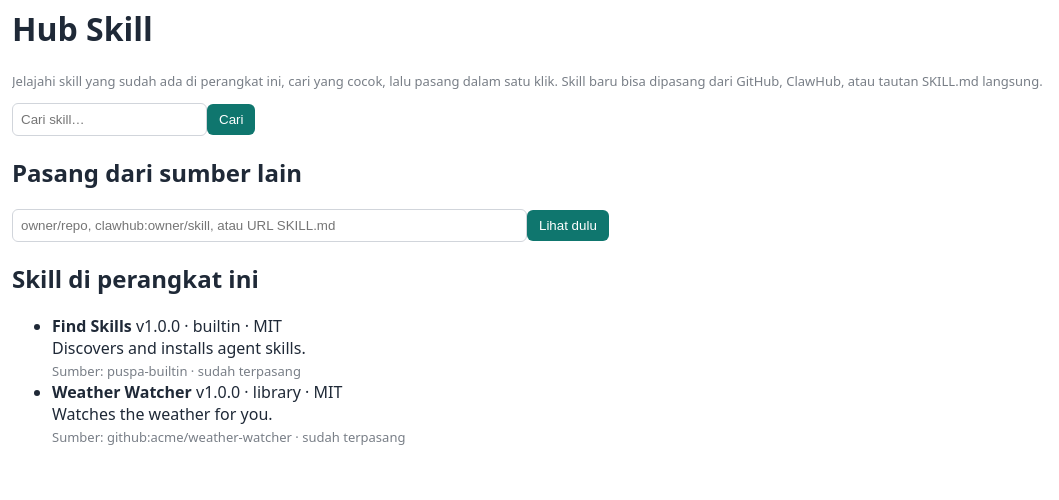
HubScreen › reports a failed preview honestly instead of installing
Expected: the text "Find Skills" is shown, x1=52 y1=314 x2=132 y2=336
In the field named "Sumber skill": (270, 225) x1=12 y1=209 x2=527 y2=242, type "acme/nope"
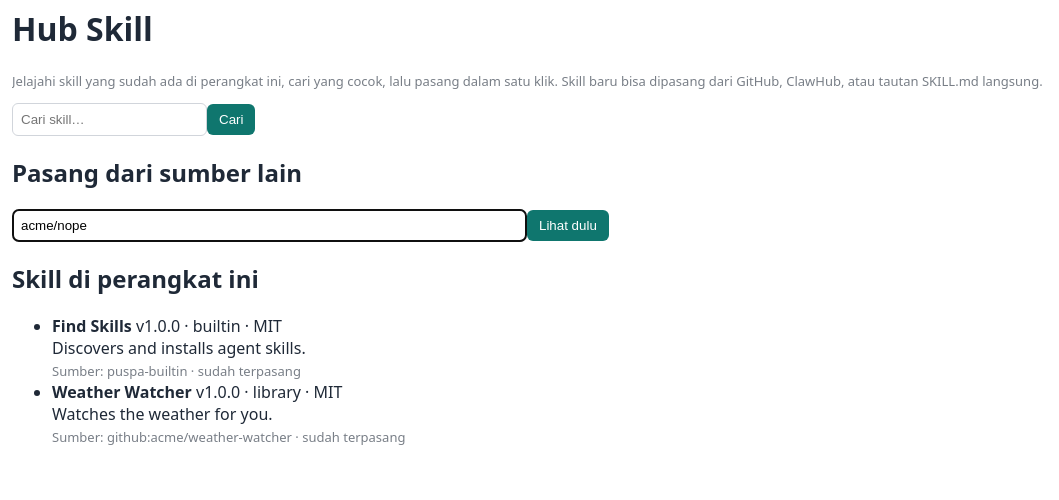
Click the button "Lihat dulu": (568, 225) x1=527 y1=210 x2=609 y2=241
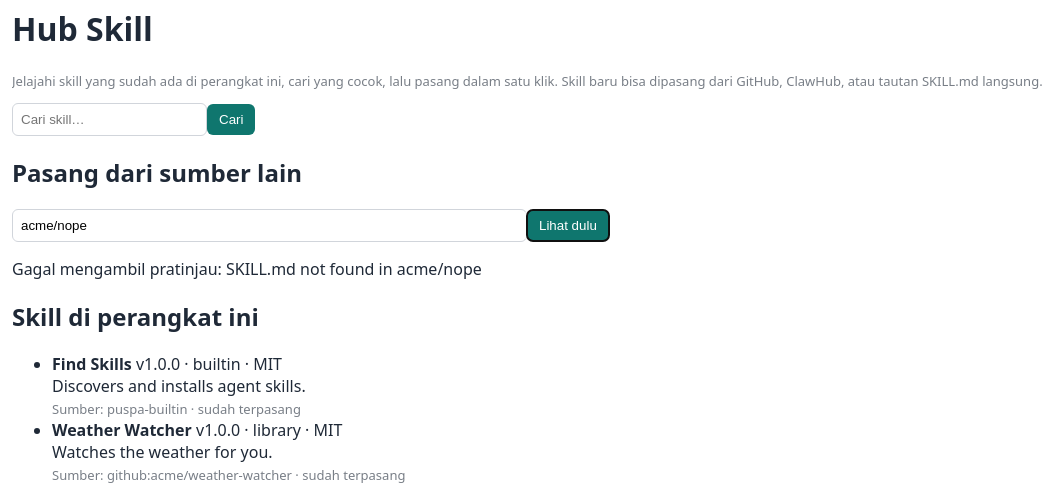
Result: the text "Gagal mengambil pratinjau: SKILL.md not found in acme/nope" is shown at x1=12 y1=258 x2=482 y2=280
